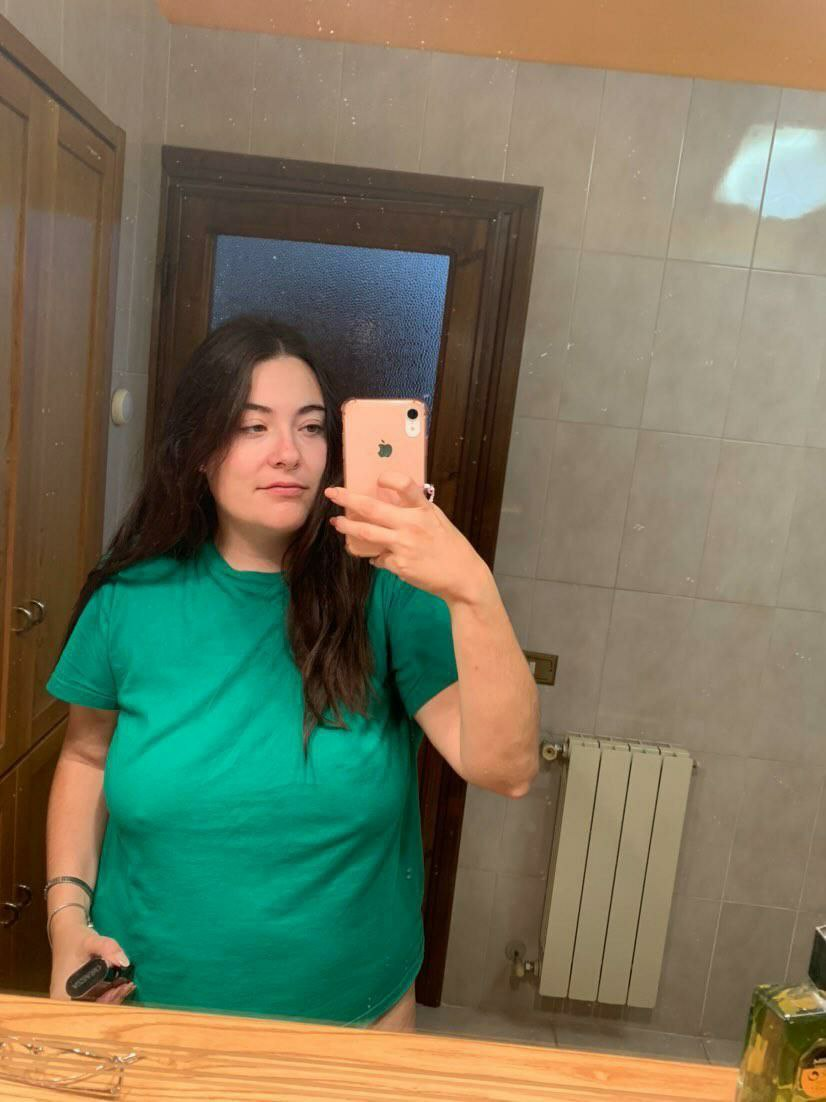without_mask: (188, 349, 335, 533)
